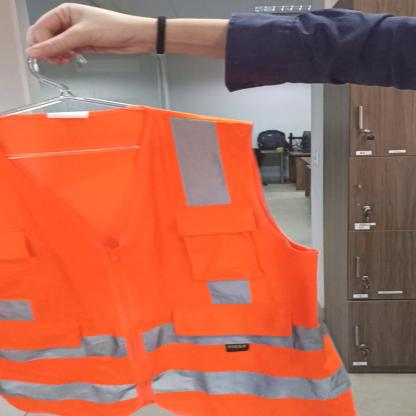colete: (0, 94, 357, 416)
